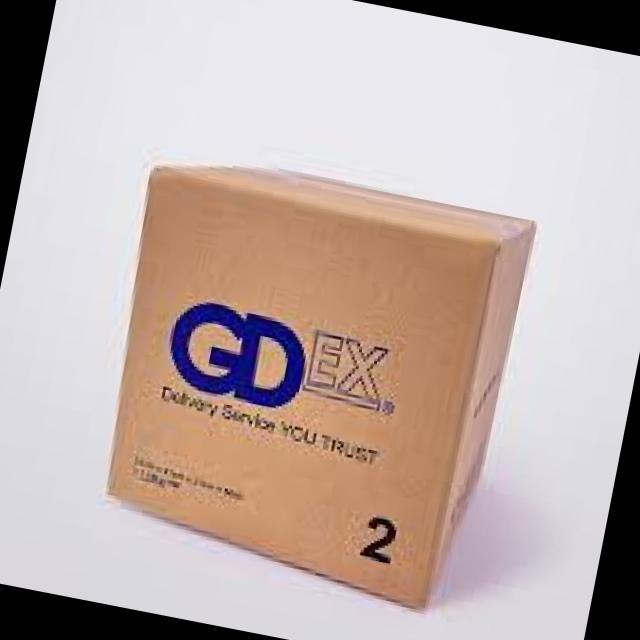box: (104, 163, 537, 613)
